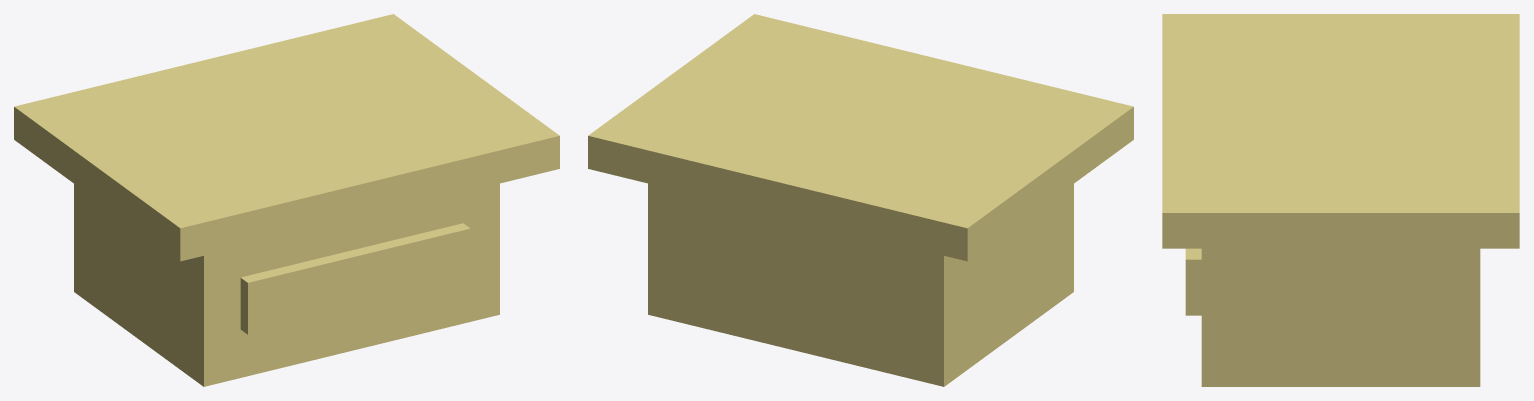
The picture shows the model from 3 angles, left to right: view 1: azimuth 30°, elevation 25°; view 2: azimuth 150°, elevation 25°; view 3: azimuth 270°, elevation 25°; orthographic projection. The views are drawn at different scales.
Parts seen in each view (by area): view 1: box; view 2: box; view 3: box.
Part boxes in pixels (left/top/right/bottom): box: left=14, top=14, right=559, bottom=386; box: left=588, top=14, right=1133, bottom=386; box: left=1162, top=14, right=1519, bottom=386.
Bounding box in the file's own units: 103 × 47.26 × 78.21.
